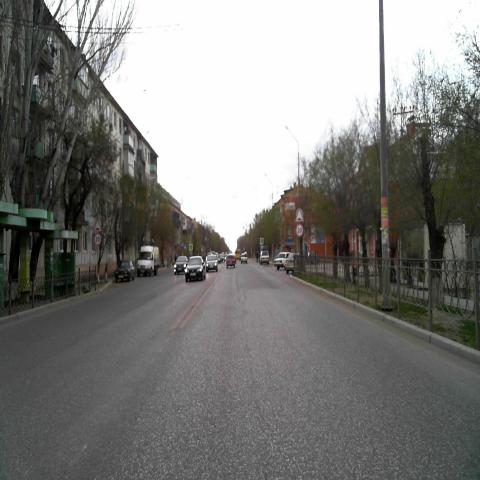1_17: (94, 217, 102, 232)
